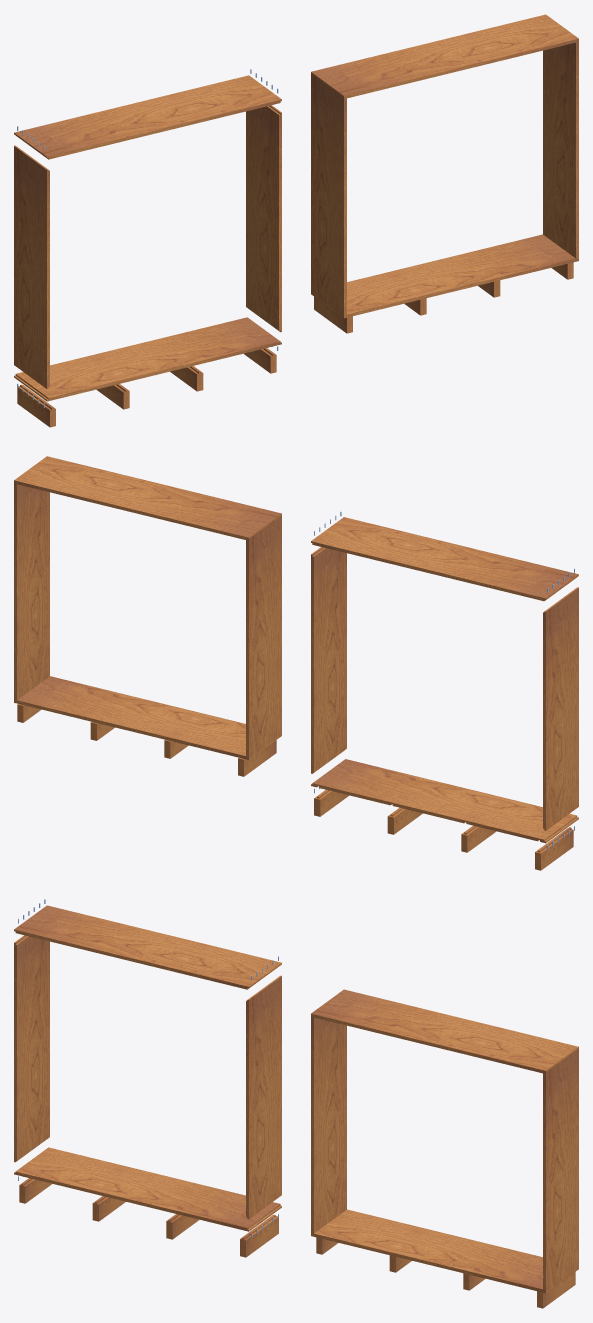
File: case-box.glb
The picture shows the model from 3 angles, top to bottom: view 1: azimuth 30°, elevation 25°; view 2: azimuth 150°, elevation 25°; view 3: azimuth 330°, elevation 25°; orthographic projection.
Parts seen in each view (by area): view 1: box.008, box.012, box.013, box.011, box.006, box.009, box.014, box.010, support.bottom.004, support.bottom.001; view 2: box.008, box.012, box.013, box.011, box.006, box.009, box.014, box.010, support.bottom.004, support.bottom.001; view 3: box.008, box.012, box.013, box.014, box.010, box.009, box.011, box.006, support.bottom.004, support.bottom.001.
Part boxes in pixels (bbox=[...]): box.008: bbox=[311, 14, 578, 98]; box.012: bbox=[14, 75, 281, 159]; box.013: bbox=[14, 317, 281, 401]; box.011: bbox=[14, 145, 49, 388]; box.006: bbox=[311, 73, 346, 316]; box.009: bbox=[311, 234, 578, 318]; box.014: bbox=[246, 105, 281, 332]; box.010: bbox=[543, 40, 578, 259]; support.bottom.004: bbox=[17, 348, 276, 427]; support.bottom.001: bbox=[314, 262, 573, 333]; box.008: bbox=[14, 456, 281, 540]; box.012: bbox=[311, 517, 578, 601]; box.013: bbox=[311, 759, 578, 843]; box.011: bbox=[543, 587, 578, 830]; box.006: bbox=[246, 515, 281, 758]; box.009: bbox=[14, 676, 281, 759]; box.014: bbox=[311, 547, 346, 773]; box.010: bbox=[14, 482, 49, 701]; support.bottom.004: bbox=[314, 790, 573, 870]; support.bottom.001: bbox=[17, 702, 276, 776]; box.008: bbox=[311, 989, 578, 1073]; box.012: bbox=[14, 905, 281, 989]; box.013: bbox=[14, 1147, 281, 1231]; box.014: bbox=[246, 975, 281, 1219]; box.010: bbox=[543, 1048, 578, 1291]; box.009: bbox=[311, 1209, 578, 1293]; box.011: bbox=[14, 935, 49, 1162]; box.006: bbox=[311, 1015, 346, 1234]; support.bottom.004: bbox=[19, 1178, 278, 1257]; support.bottom.001: bbox=[316, 1237, 575, 1308].
Bounding box in the file's own units: 3.31 × 1.67 × 0.3651.
2 materials, 1 textured.
